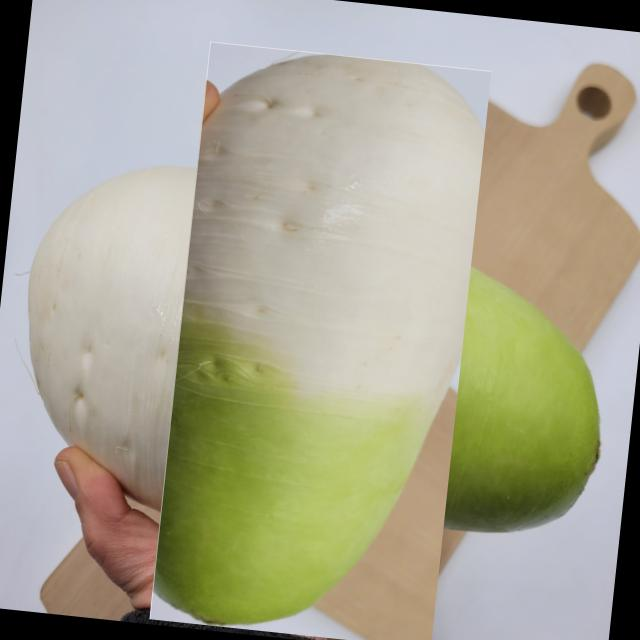radish: (82, 107, 558, 582)
